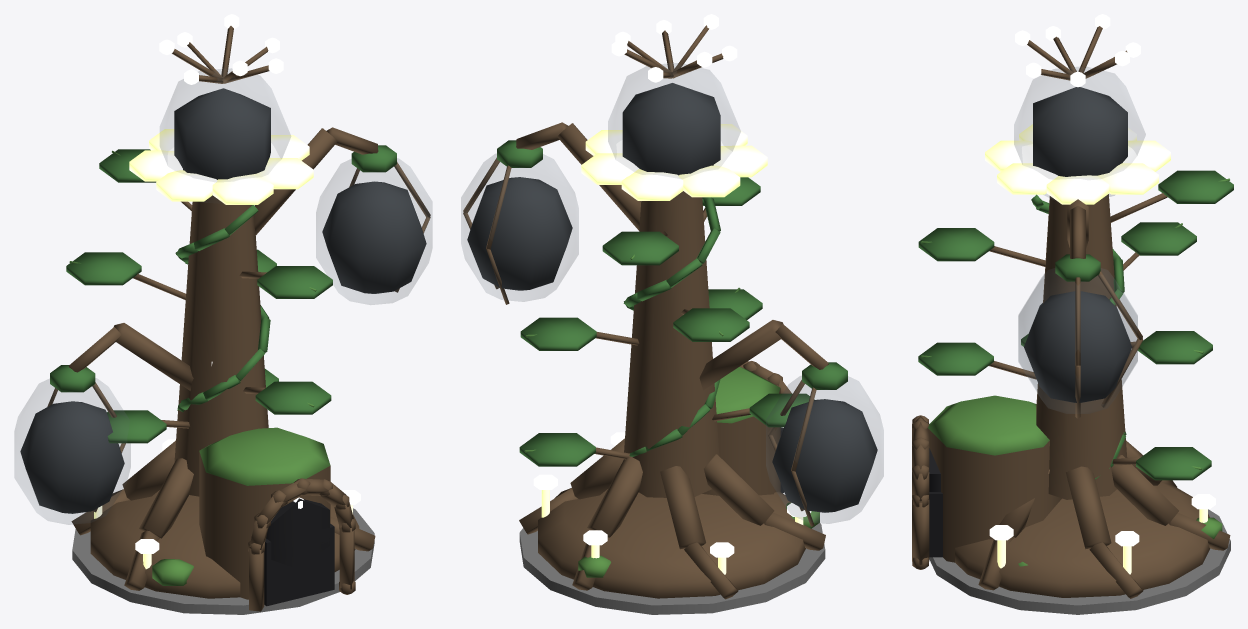
File: BLOOM_Vat_T2.glb
3 views of the same model, side by side, from view 1: azimuth 30°, elevation 25°; view 2: azimuth 150°, elevation 25°; view 3: azimuth 270°, elevation 25° (orthographic).
Parts seen in each view (by area): view 1: BLOOM_Vat_T2; view 2: BLOOM_Vat_T2; view 3: BLOOM_Vat_T2.
Part boxes in pixels (left/top/right/bottom): BLOOM_Vat_T2: left=14, top=14, right=432, bottom=614; BLOOM_Vat_T2: left=461, top=14, right=883, bottom=614; BLOOM_Vat_T2: left=912, top=14, right=1233, bottom=614.
Size of the model in its own units: 5.4 by 6.78 by 3.68.
